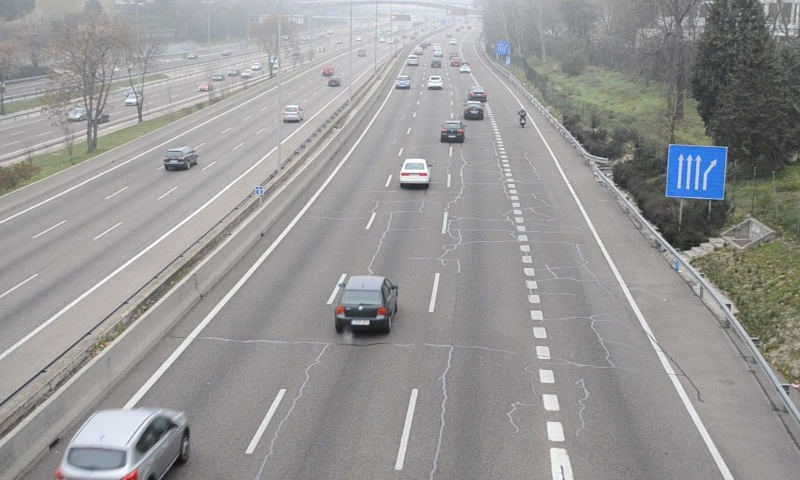car: (60, 407, 189, 480), (336, 275, 398, 332), (399, 158, 429, 186), (440, 120, 466, 143), (463, 100, 484, 121), (468, 85, 488, 102), (426, 74, 444, 90), (394, 74, 411, 88)
motorcycle: (516, 107, 528, 129)
